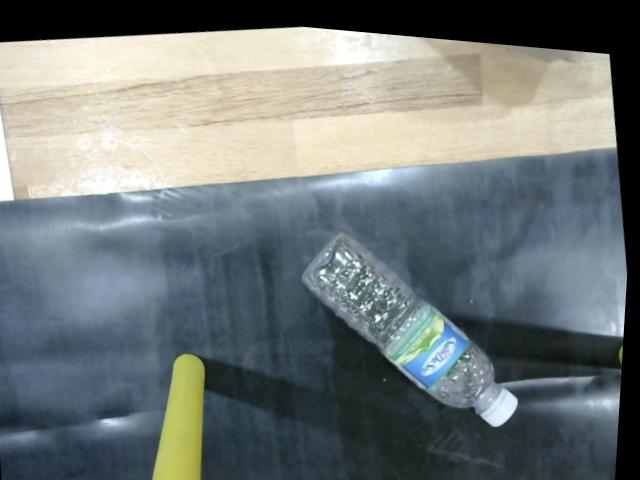bottle: (293, 213, 534, 432)
